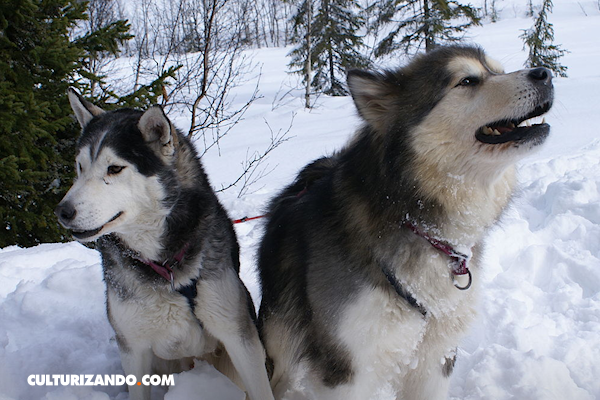husky: (41, 69, 271, 394)
